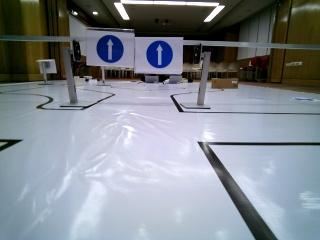straight: (89, 27, 136, 69), (137, 36, 181, 71)
